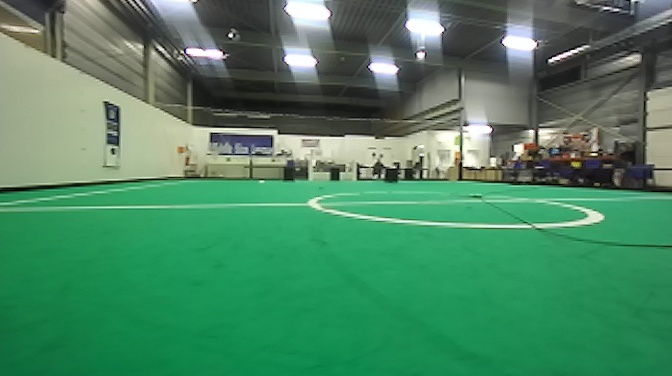goalpost: (349, 154, 357, 185), (306, 157, 314, 181)
